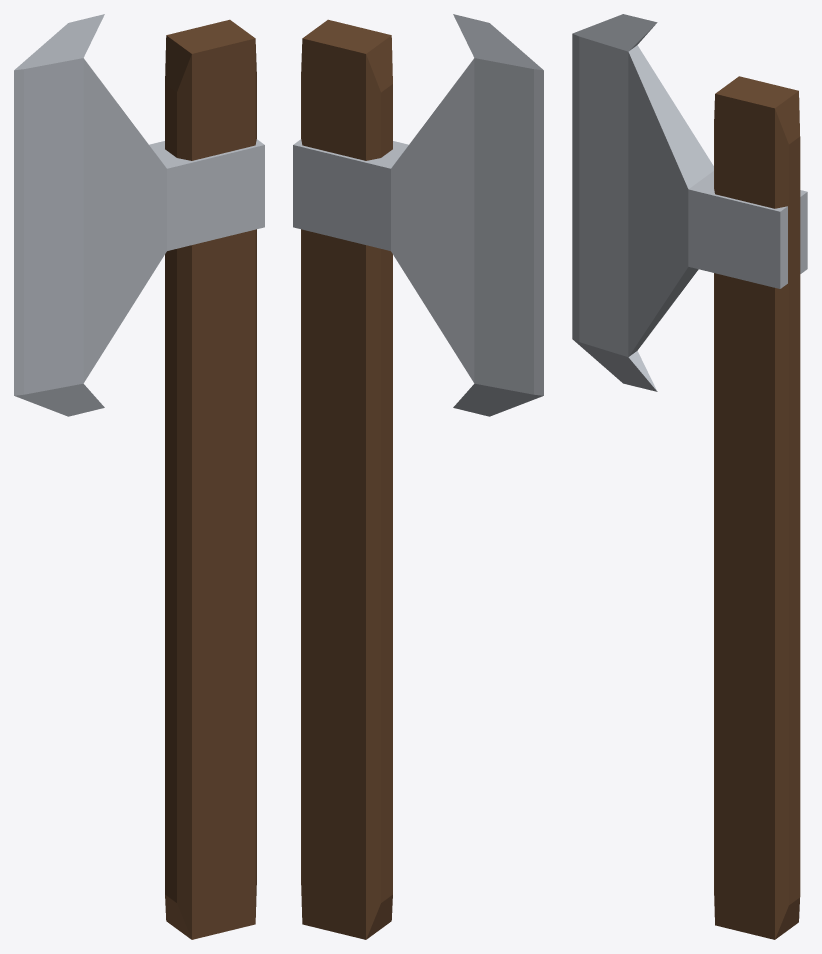
Rendered from axe.glb.
The picture shows the model from 3 angles, left to right: view 1: azimuth 30°, elevation 25°; view 2: azimuth 150°, elevation 25°; view 3: azimuth 330°, elevation 25°; orthographic projection. The views are drawn at different scales.
Visible parts, largest first — view 1: Axe; view 2: Axe; view 3: Axe.
Part boxes in pixels (box(x1,y1,x2,y2)): Axe: box(14, 14, 264, 939); Axe: box(293, 14, 543, 939); Axe: box(572, 14, 807, 939).
Bounding box in the file's own units: 0.1359 × 0.5126 × 0.029.
